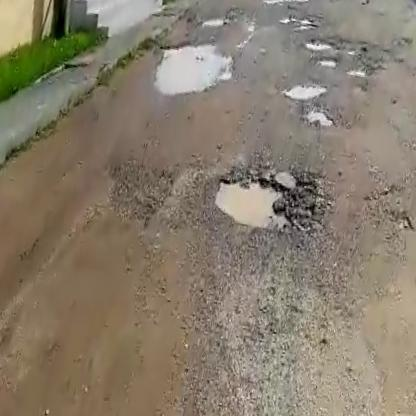pothole: (208, 157, 325, 242), (151, 36, 238, 103), (277, 77, 326, 106), (298, 104, 339, 131), (284, 9, 324, 33), (305, 35, 342, 54), (202, 13, 226, 31), (317, 55, 339, 72), (346, 66, 367, 81)
